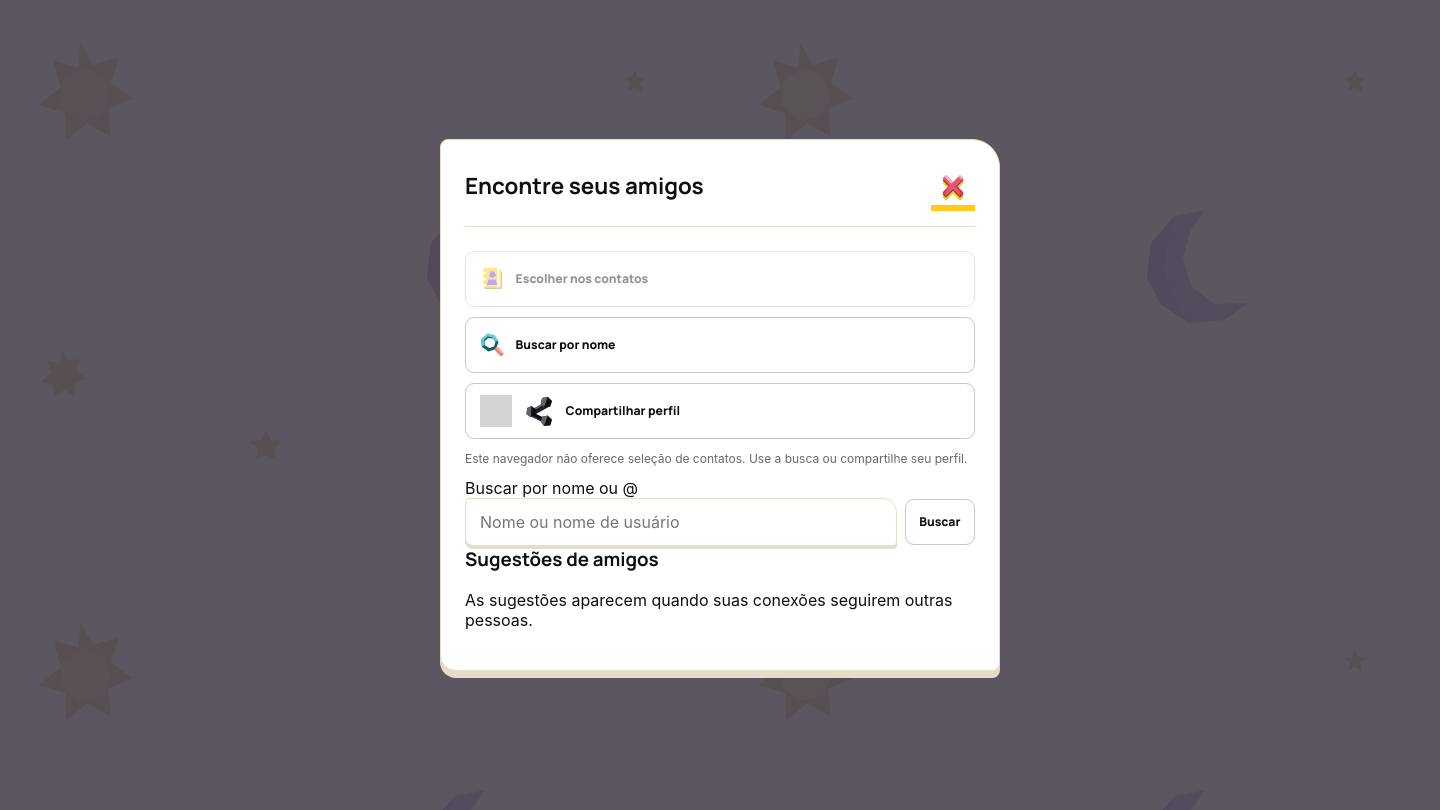
it: busca, visita um perfil e segue de volta com resultado real da API
Check: the heading "Sugestões de amigos" is shown, box x1=465 y1=546 x2=658 y2=572
Check: the button "Buscar" is enabled, box x1=905 y1=499 x2=975 y2=545
Type "bob" into the field labelled "Buscar por nome ou @" at (681, 522), box x1=465 y1=498 x2=897 y2=546
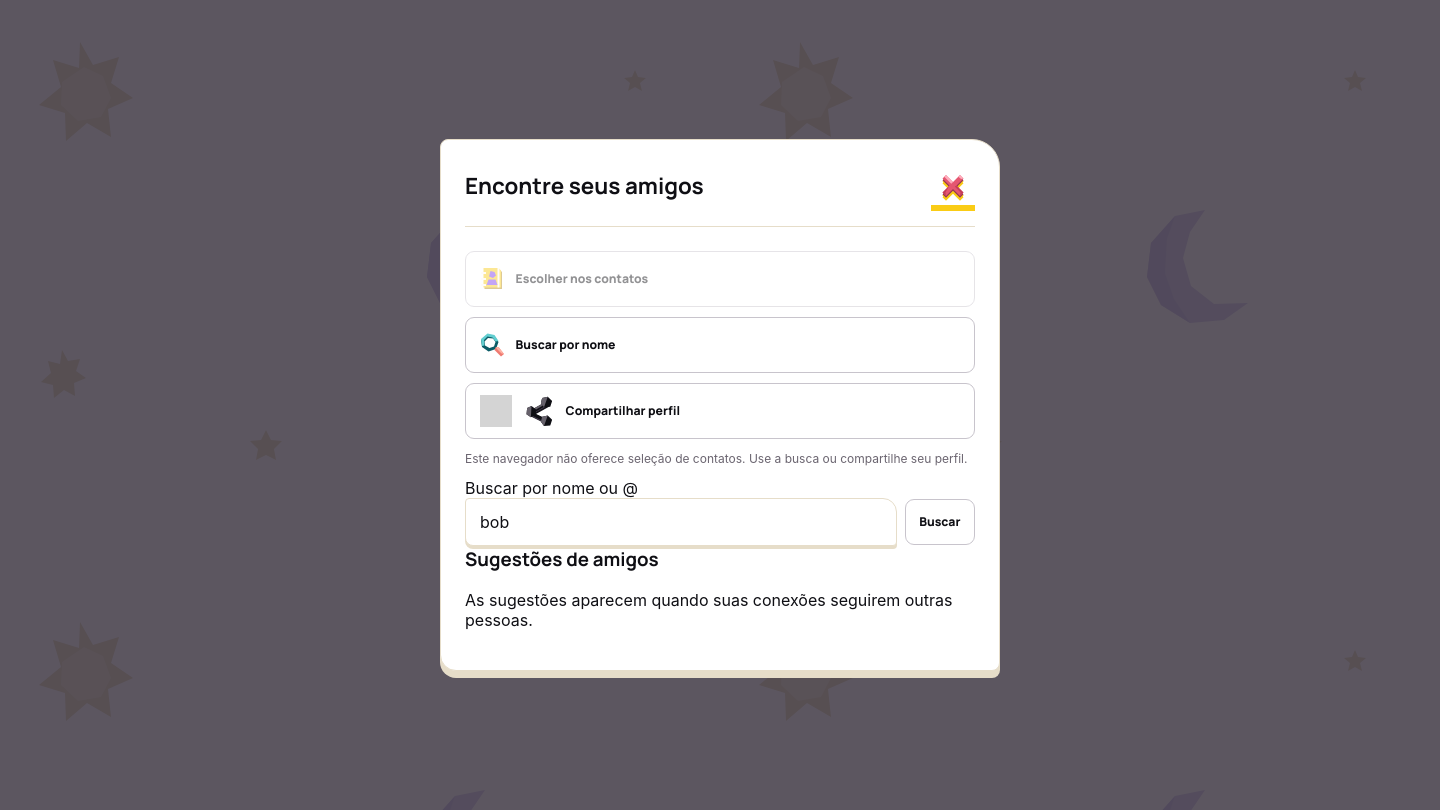
Click the button "Buscar" at (940, 522), box x1=905 y1=499 x2=975 y2=545
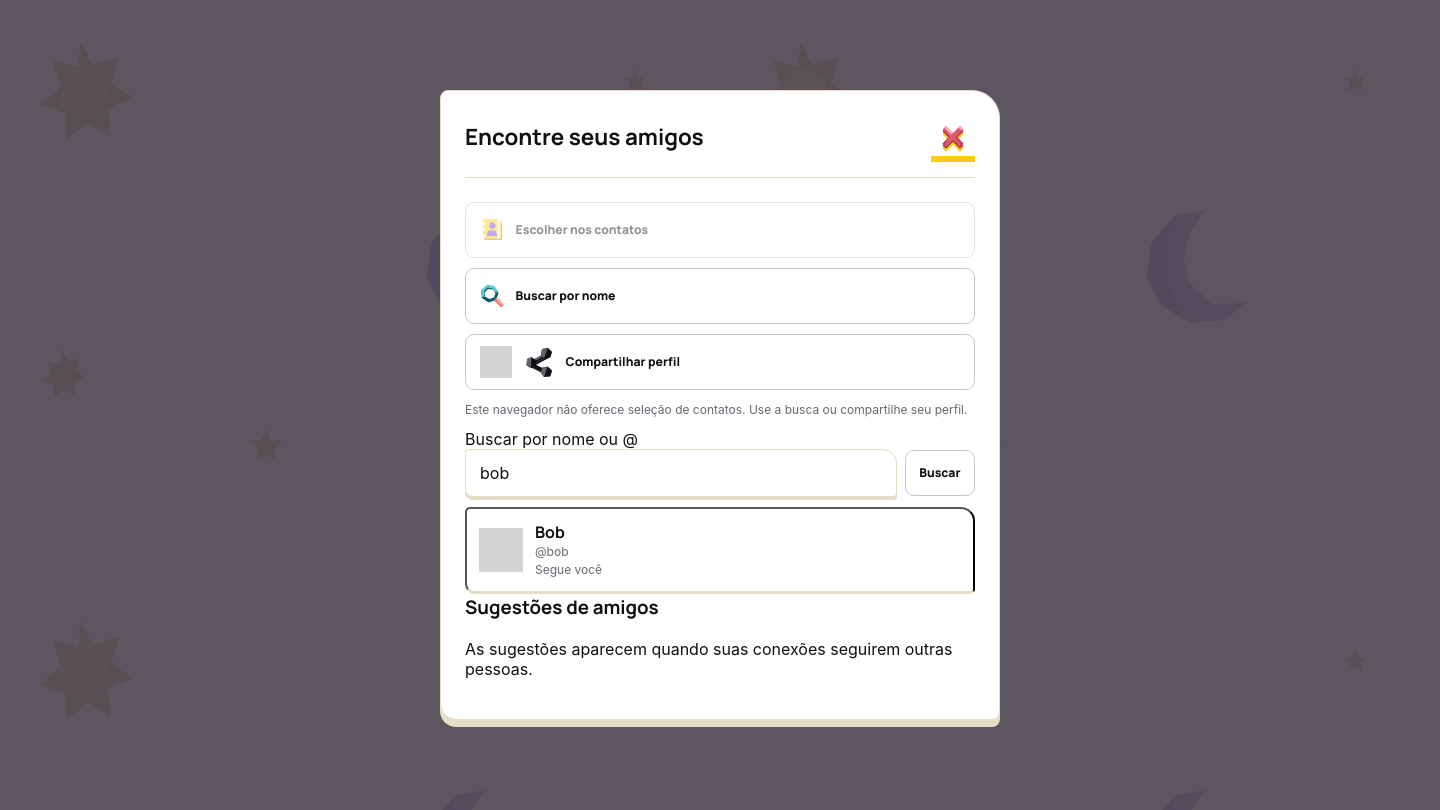
Click the button with aria-label "Visitar perfil de @bob" at (501, 550), box x1=465 y1=507 x2=975 y2=594
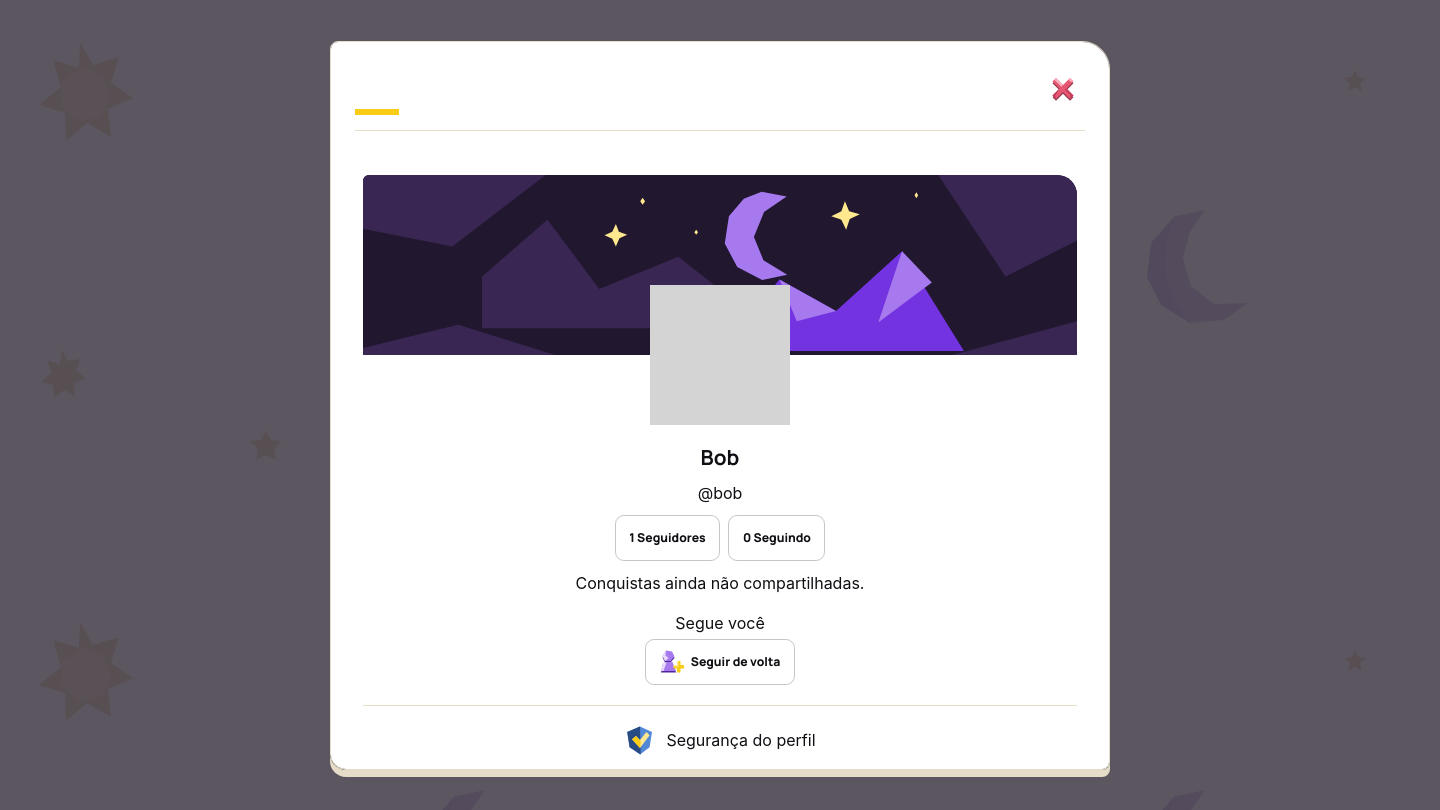
Click the button "Seguir de volta" at (720, 662), box x1=645 y1=638 x2=795 y2=685
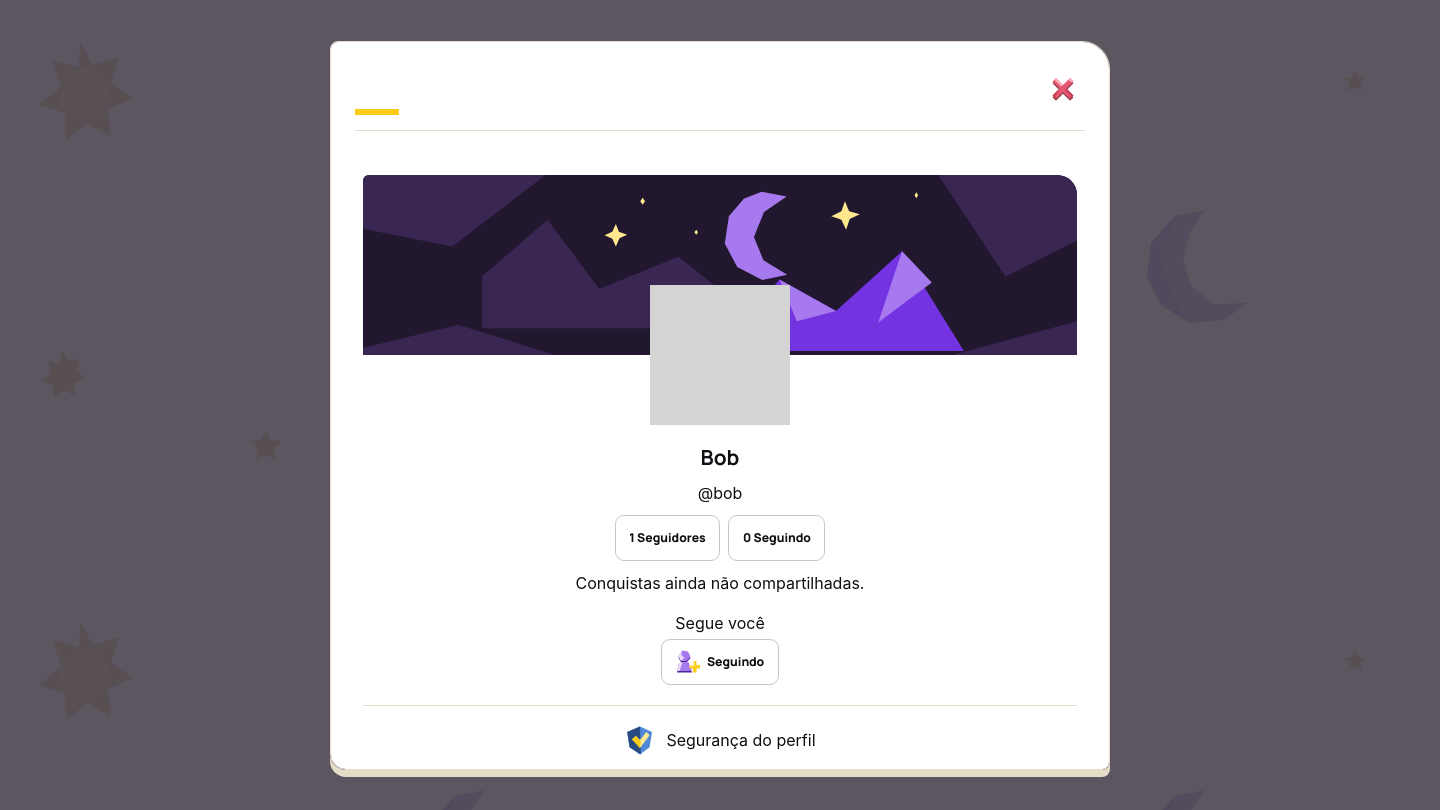
Check: the button "Seguindo" is shown, box x1=661 y1=638 x2=779 y2=685
